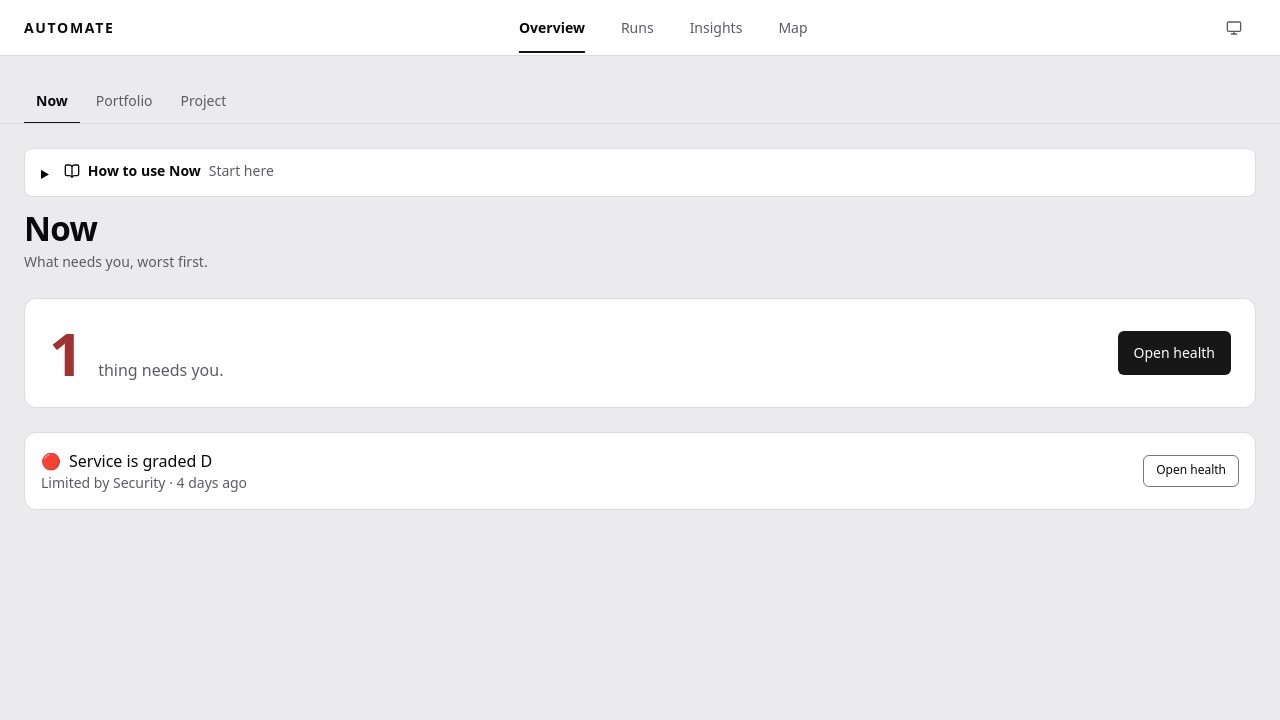
Test case: the now route › opens a falling repository from its one action
Expected: the text "Service is graded D" is shown, left=69, top=449, right=212, bottom=473
Click the button "Open health" in the row of "thing needs you." at (1174, 353), box left=1118, top=331, right=1231, bottom=375
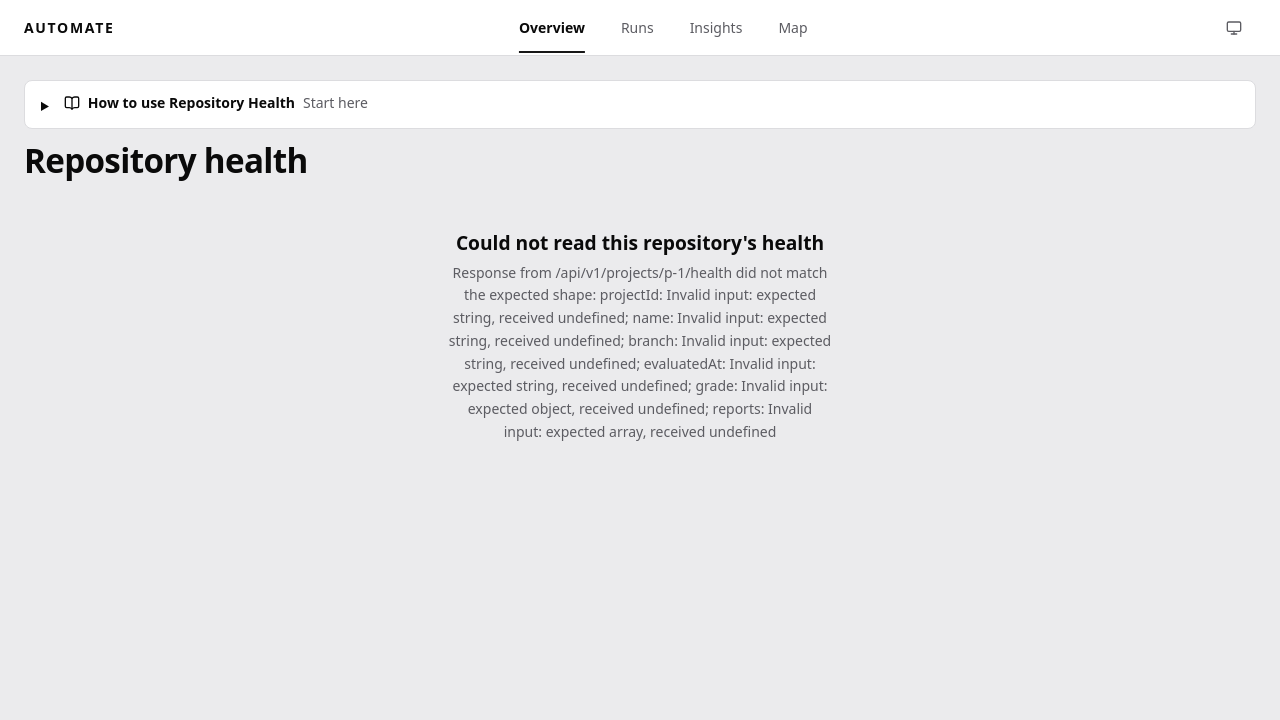
Expected: the element with test id "now-page" is gone
